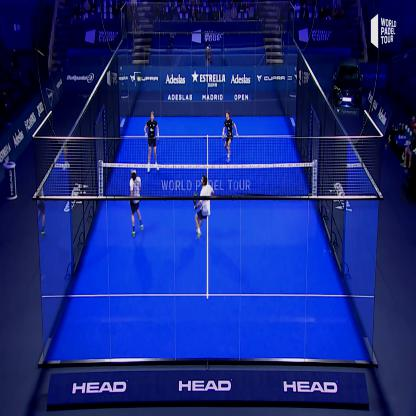ball: (135, 72, 142, 87)
